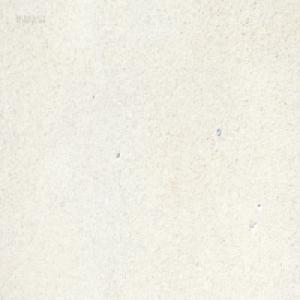Washer: (215, 126, 220, 136)
